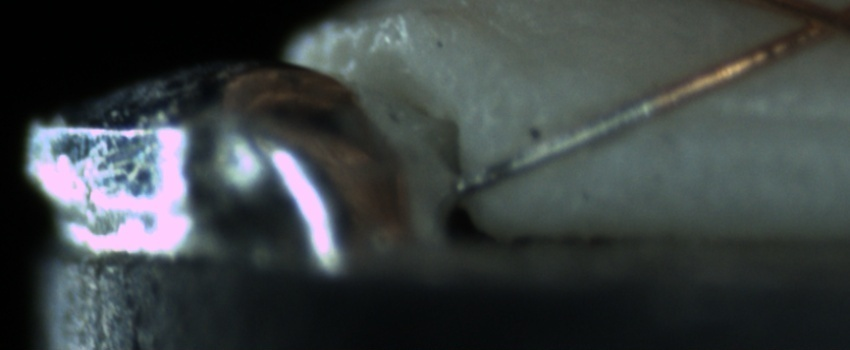CL: (773, 1, 846, 46)
DL: (639, 81, 849, 156)
TS: (456, 92, 660, 193)
